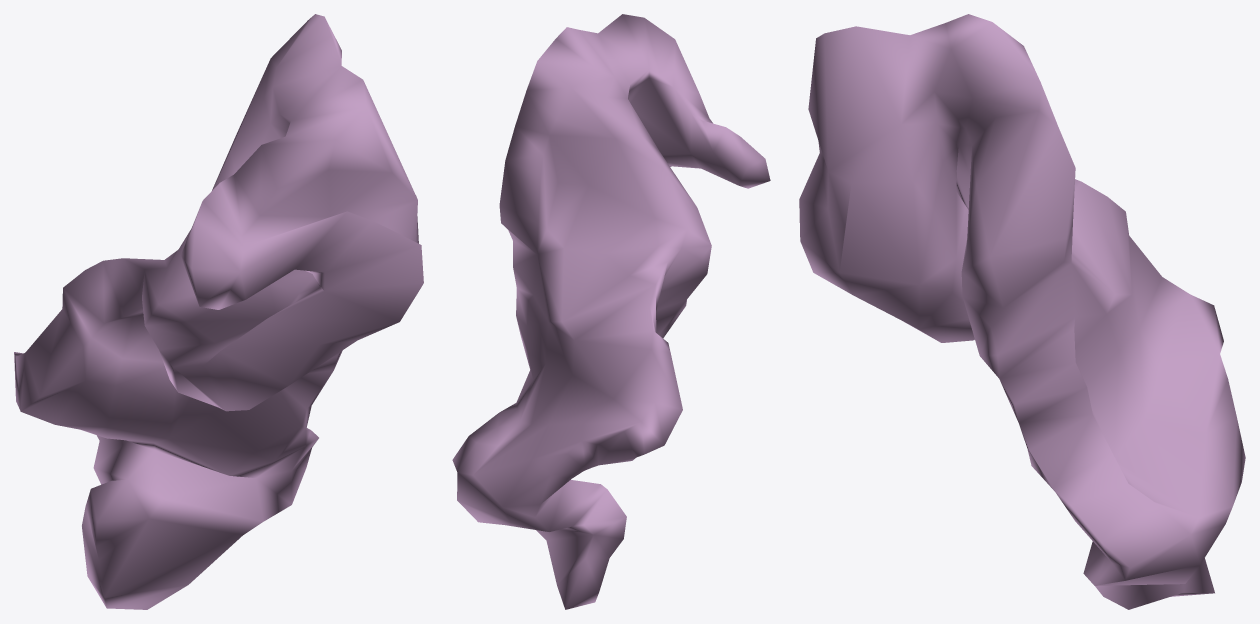
The picture shows the model from 3 angles, left to right: view 1: azimuth 30°, elevation 25°; view 2: azimuth 150°, elevation 25°; view 3: azimuth 270°, elevation 25°; orthographic projection. The views are drawn at different scales.
Parts seen in each view (by area): view 1: 左侧颞平面; view 2: 左侧颞平面; view 3: 左侧颞平面.
Part boxes in pixels (x1,y1,x2,y2): 左侧颞平面: [14, 14, 423, 609]; 左侧颞平面: [452, 14, 770, 609]; 左侧颞平面: [799, 14, 1245, 609].
Size of the model in its own units: 0.0303 by 0.0646 by 0.0403.
